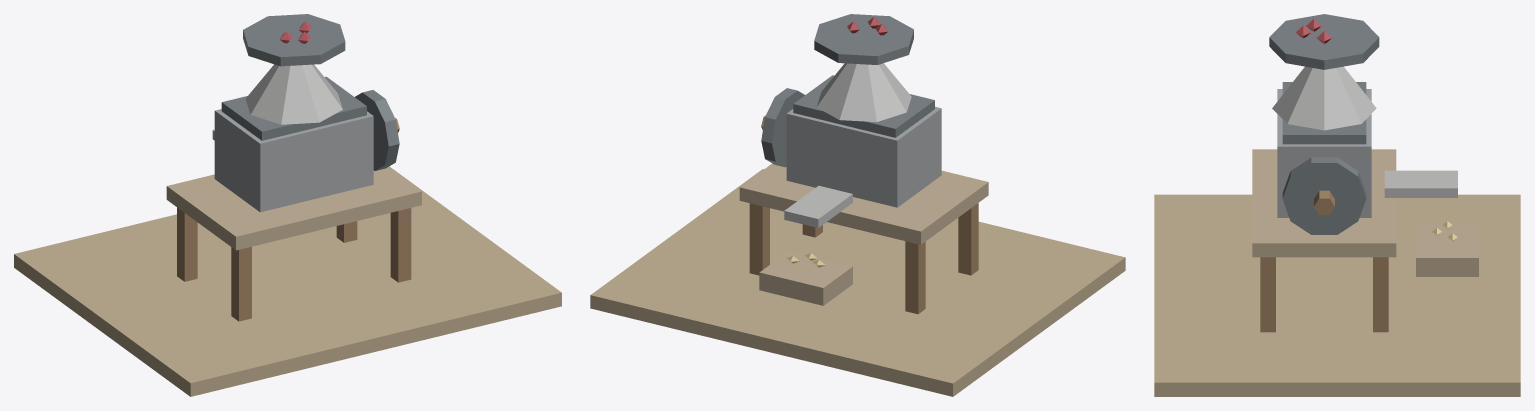
The model's file is cafe_estacion_01_despulpado.glb.
3 renders of one model, left to right at view 1: azimuth 30°, elevation 25°; view 2: azimuth 150°, elevation 25°; view 3: azimuth 270°, elevation 25°, orthographic. The views are drawn at different scales.
Visible parts, largest first — view 1: model; view 2: model; view 3: model.
Boxes of the visible parts, x1=… form: model: x1=14, y1=14, x2=561, y2=396; model: x1=590, y1=14, x2=1125, y2=396; model: x1=1154, y1=14, x2=1520, y2=396.
Bounding box in the file's own units: 1.7 × 1.17 × 1.4.
